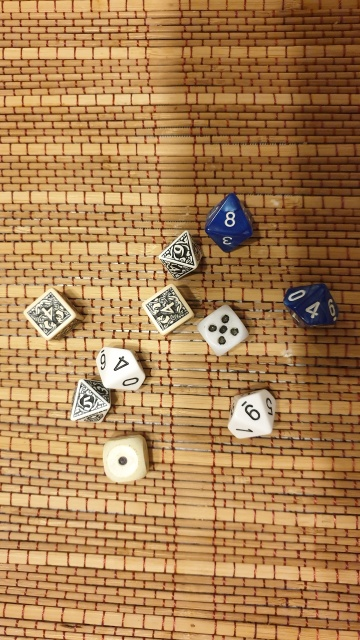d10-4: (278, 278, 346, 333), (90, 342, 150, 398)
d10-8: (201, 190, 255, 256)
d10-9: (221, 380, 278, 444)
d6-1: (100, 434, 156, 485)
d6-5: (195, 300, 255, 359)
d6p-4: (17, 287, 83, 342), (141, 284, 192, 337)
d8p-5: (64, 374, 111, 429)
d8p-6: (157, 231, 208, 282)
